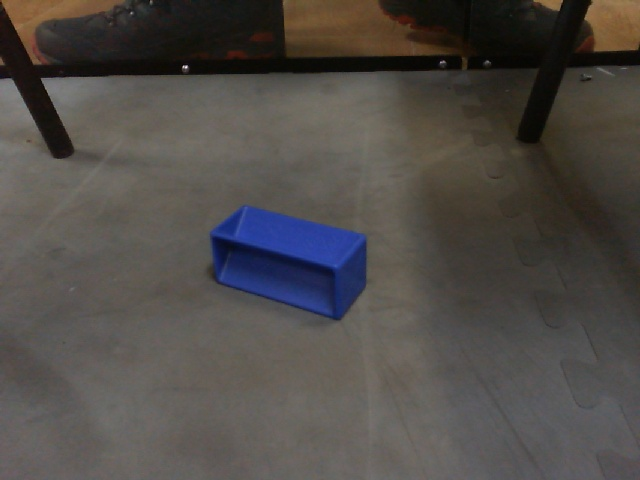BlueSample: (200, 203, 370, 324)
